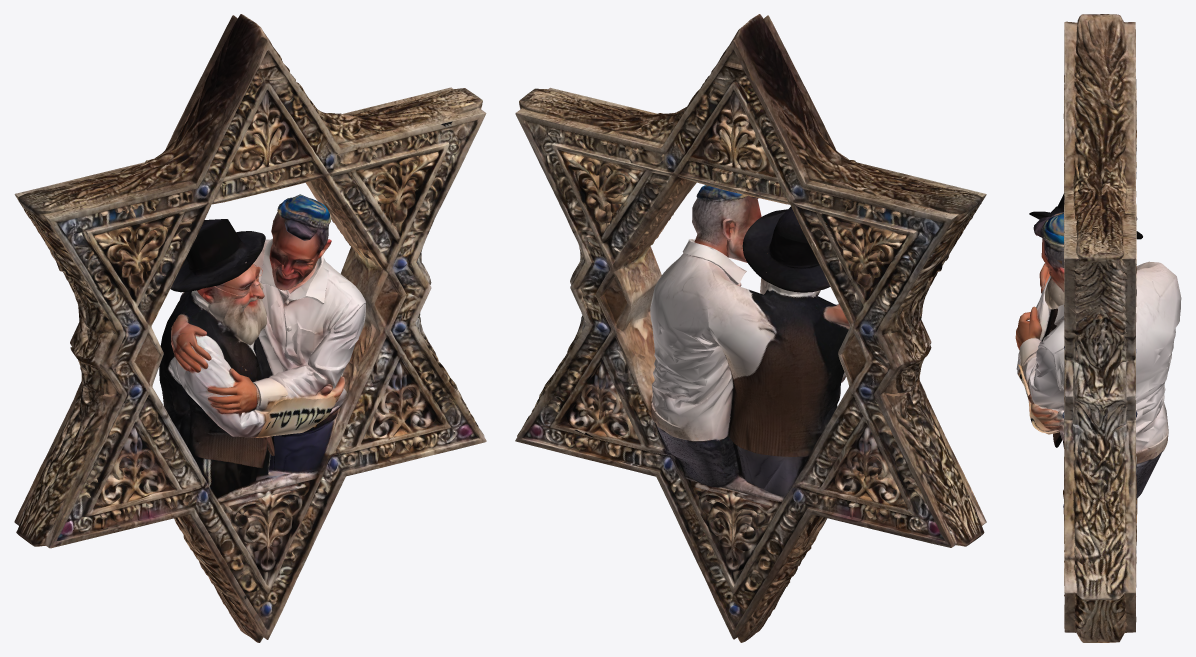
Rendered from magen_color.glb.
3 renders of one model, left to right at view 1: azimuth 30°, elevation 25°; view 2: azimuth 150°, elevation 25°; view 3: azimuth 270°, elevation 25°, orthographic.
Size of the model in its own units: 1.44 by 1.89 by 0.4521.
Materials: 1 (1 with a texture image).
